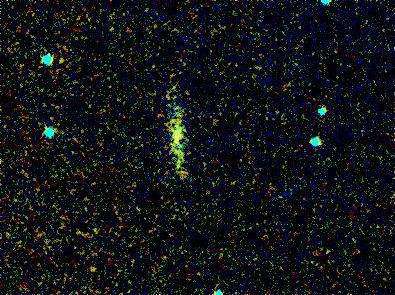star: (48, 49, 78, 79)
